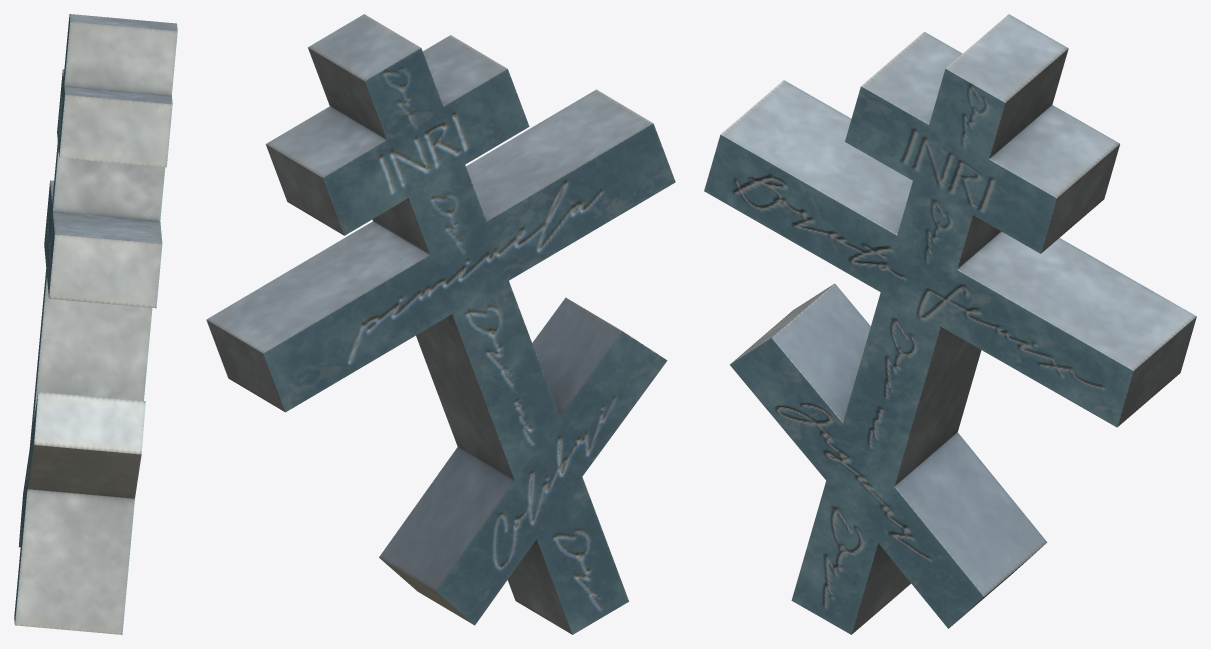
The picture shows the model from 3 angles, left to right: view 1: azimuth 30°, elevation 25°; view 2: azimuth 150°, elevation 25°; view 3: azimuth 270°, elevation 25°; orthographic projection. The views are drawn at different scales.
Visible parts, largest first — view 1: Cruz_Orto_Cube.011; view 2: Cruz_Orto_Cube.011; view 3: Cruz_Orto_Cube.011.
Part boxes in pixels (<box>): Cruz_Orto_Cube.011: <box>14,14,177,634</box>; Cruz_Orto_Cube.011: <box>206,14,675,634</box>; Cruz_Orto_Cube.011: <box>704,14,1196,634</box>.
Size of the model in its own units: 1.39 by 2.69 by 1.91.
